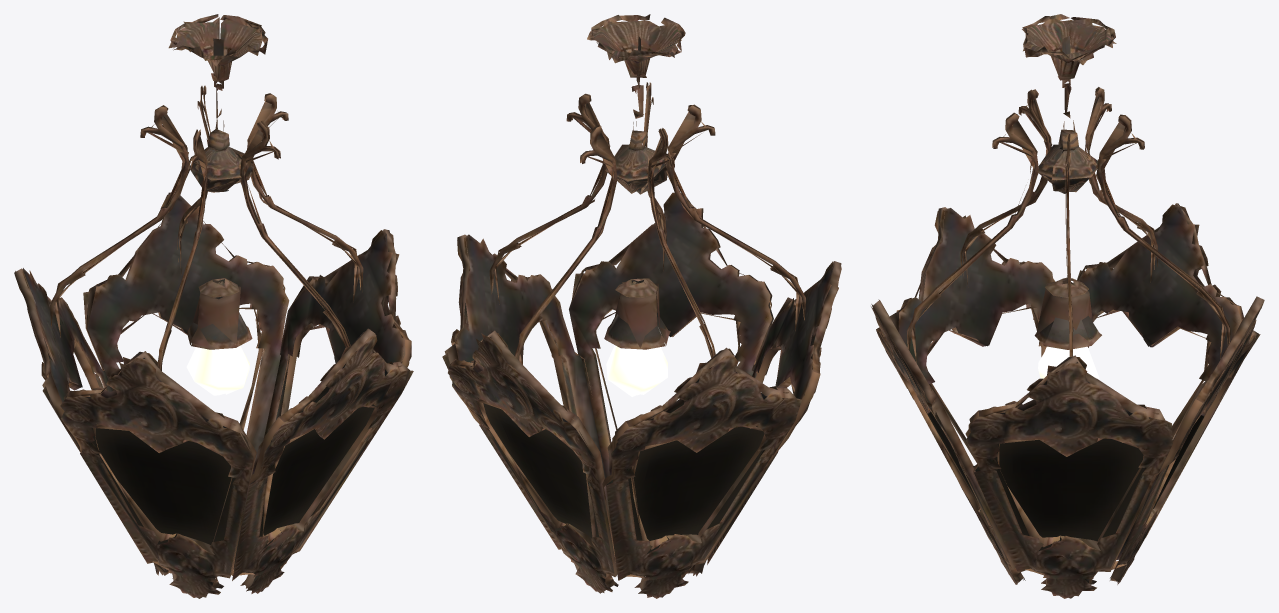
File: ph_lantern_chandelier_01.glb
3 views of the same model, side by side, from view 1: azimuth 30°, elevation 25°; view 2: azimuth 150°, elevation 25°; view 3: azimuth 270°, elevation 25° (orthographic).
Parts seen in each view (by area): view 1: lantern_chandelier_01; view 2: lantern_chandelier_01; view 3: lantern_chandelier_01.
Part boxes in pixels (box(x1,y1,x2,y2)): lantern_chandelier_01: box(14, 14, 413, 598); lantern_chandelier_01: box(442, 14, 841, 598); lantern_chandelier_01: box(871, 14, 1264, 598).
Bounding box in the file's own units: 0.5816 × 0.8783 × 0.575.
3 materials, 2 textured.
